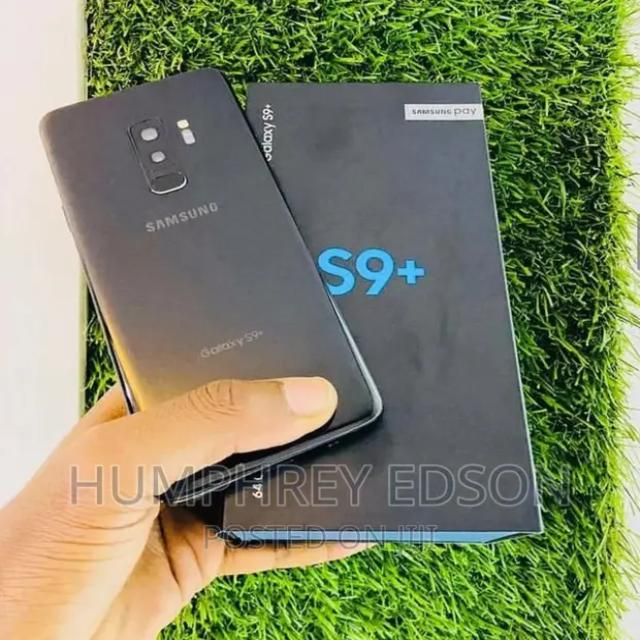mobile phone: (37, 65, 384, 507)
